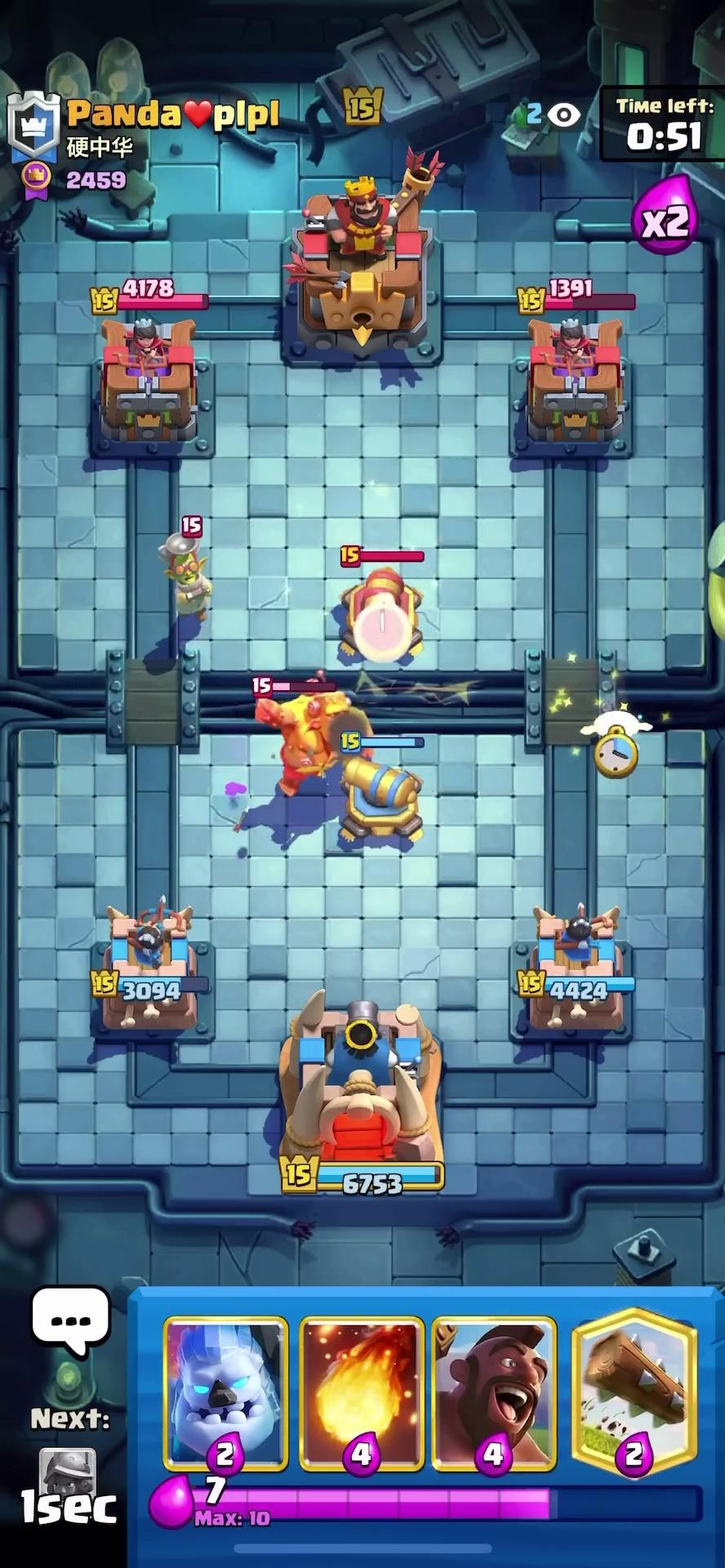cannon: (333, 739, 437, 851)
ice_spirit: (582, 692, 651, 760)
